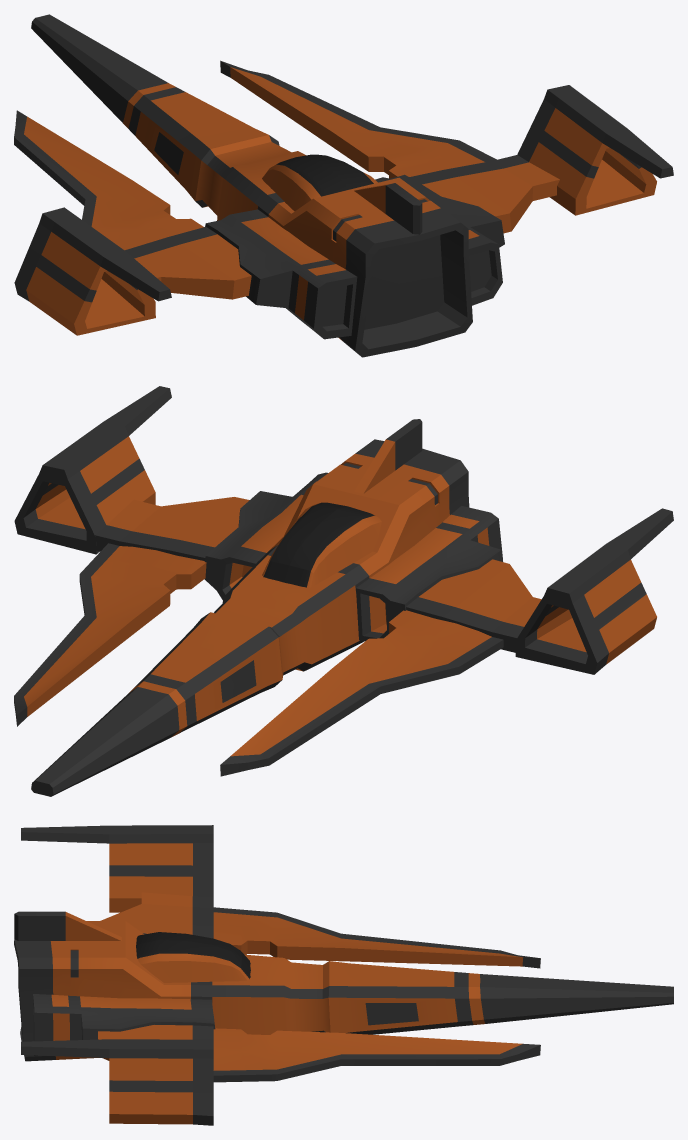
File: Spaceship2 - Copy.glb
The picture shows the model from 3 angles, top to bottom: view 1: azimuth 30°, elevation 25°; view 2: azimuth 150°, elevation 25°; view 3: azimuth 270°, elevation 25°; orthographic projection. The views are drawn at different scales.
Visible parts, largest first — view 1: node_id5; view 2: node_id5; view 3: node_id5.
Boxes of the visible parts, <box> form: node_id5: <box>14,14,673,357</box>; node_id5: <box>14,386,673,796</box>; node_id5: <box>14,825,673,1125</box>.
Bounding box in the file's own units: 0.512 × 0.1209 × 0.5746.
Materials: 1 (1 with a texture image).
